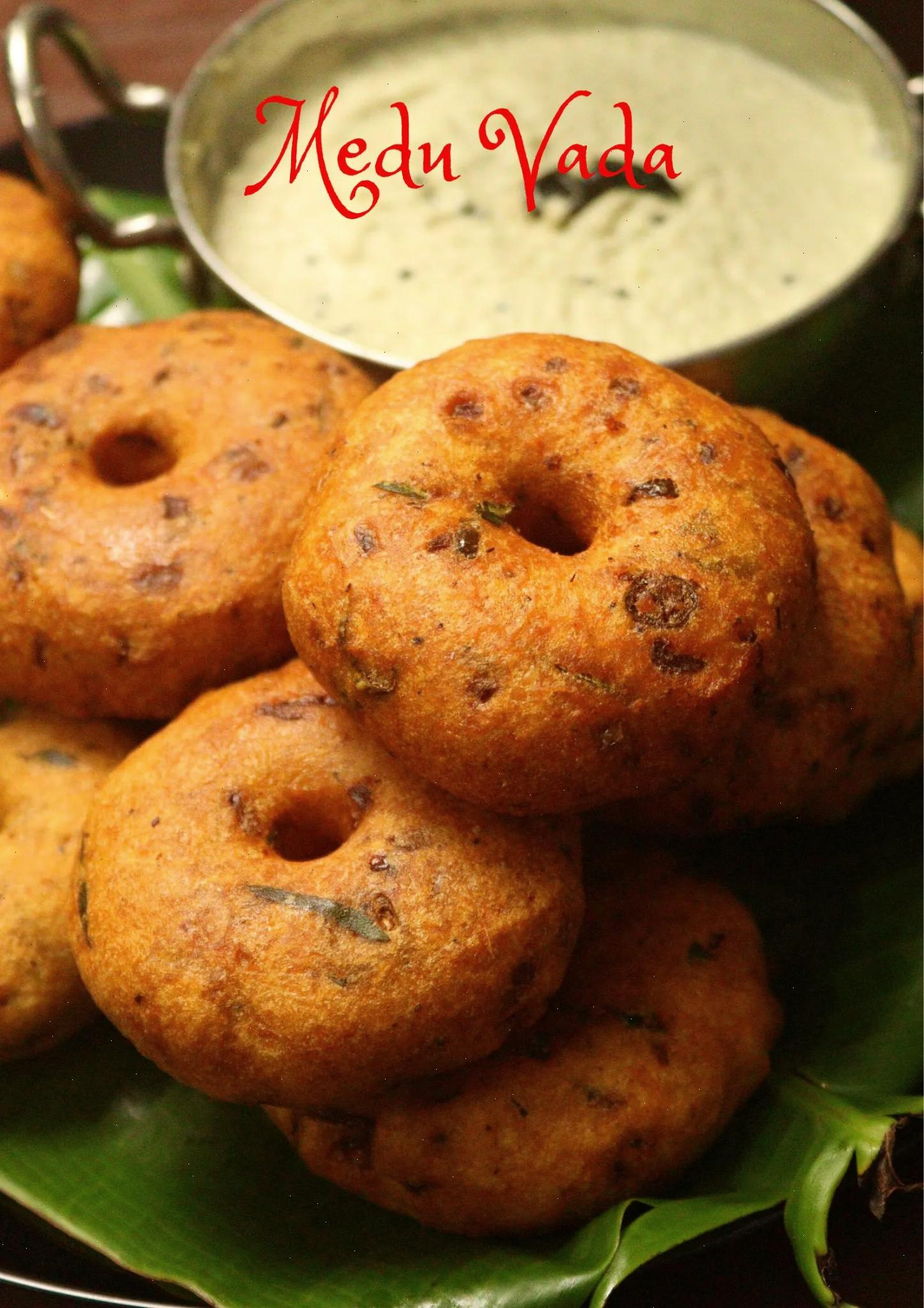medu vada: (0, 337, 924, 1226)
